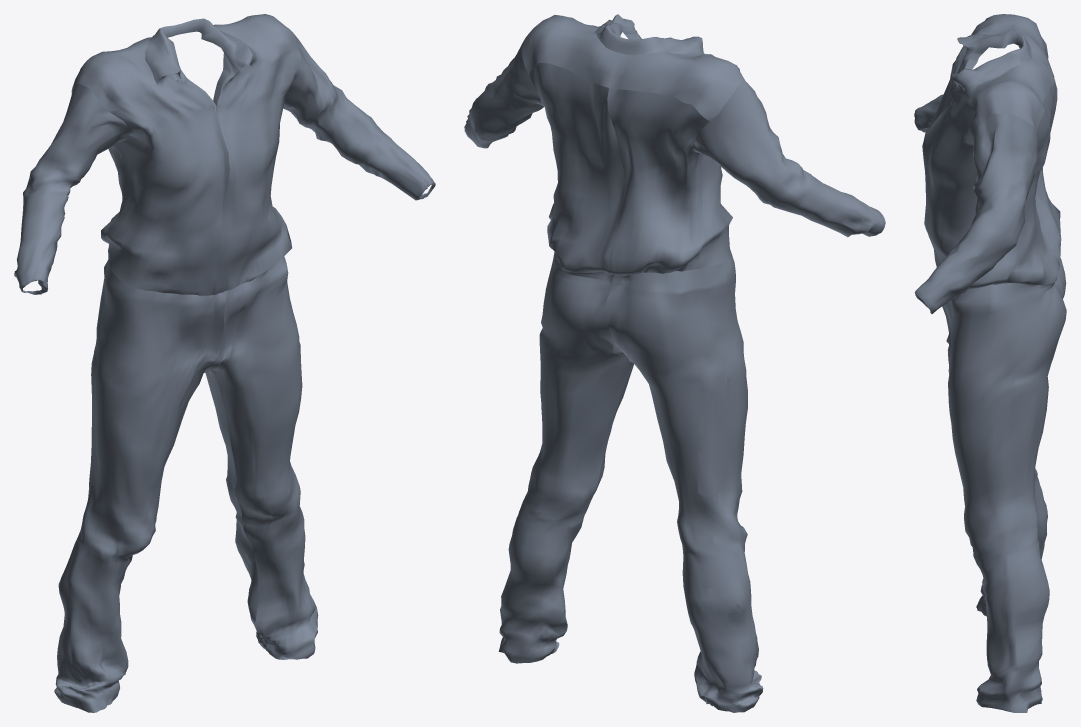
File: male_casualsuit01.glb
The picture shows the model from 3 angles, left to right: view 1: azimuth 30°, elevation 25°; view 2: azimuth 150°, elevation 25°; view 3: azimuth 270°, elevation 25°; orthographic projection. The views are drawn at different scales.
Parts seen in each view (by area): view 1: male_casualsuit01; view 2: male_casualsuit01; view 3: male_casualsuit01.
Part boxes in pixels (left/top/right/bottom): male_casualsuit01: left=14, top=14, right=435, bottom=712; male_casualsuit01: left=464, top=14, right=885, bottom=712; male_casualsuit01: left=914, top=14, right=1066, bottom=712.
Bounding box in the file's own units: 0.9039 × 1.35 × 0.3019.
